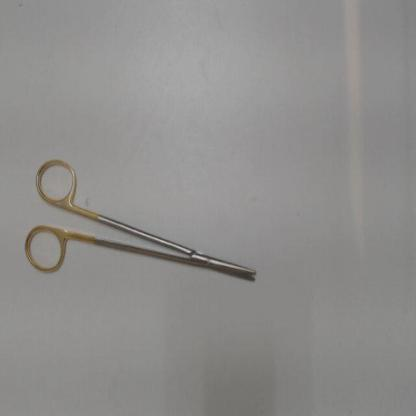7 Metzenbaum Scissors: (22, 152, 260, 288)
